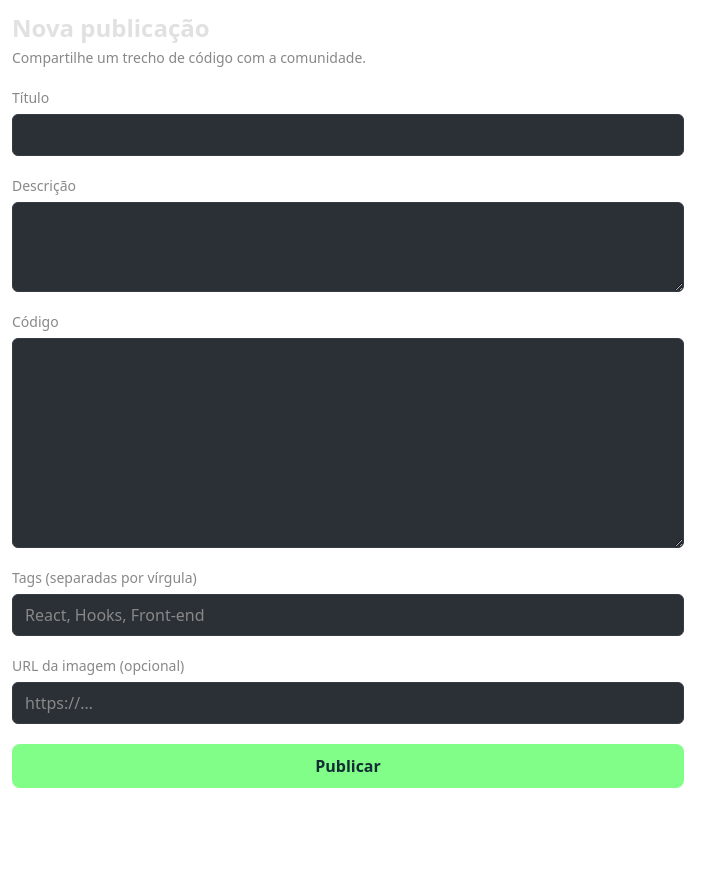
CreatePostForm › valida campos obrigatórios antes de enviar
Click the button "Publicar".
click(348, 766)  # box [12,744,684,788]
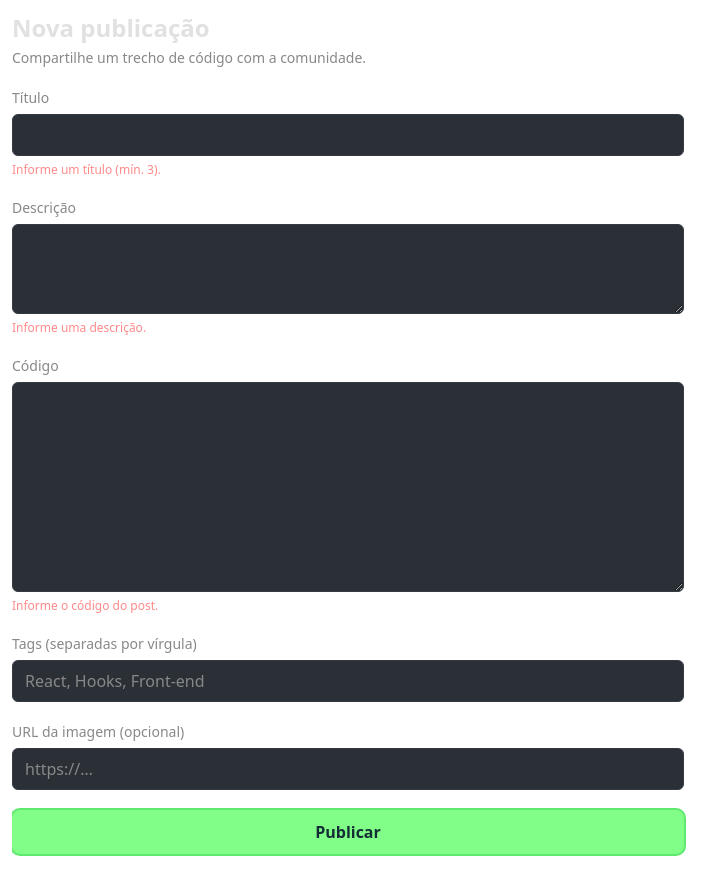
Expected: the text "Informe um título (mín. 3)." is shown, [12,161,161,178]
Expected: the text "Informe uma descrição." is shown, [12,319,146,336]
Expected: the text "Informe o código do post." is shown, [12,597,158,614]
